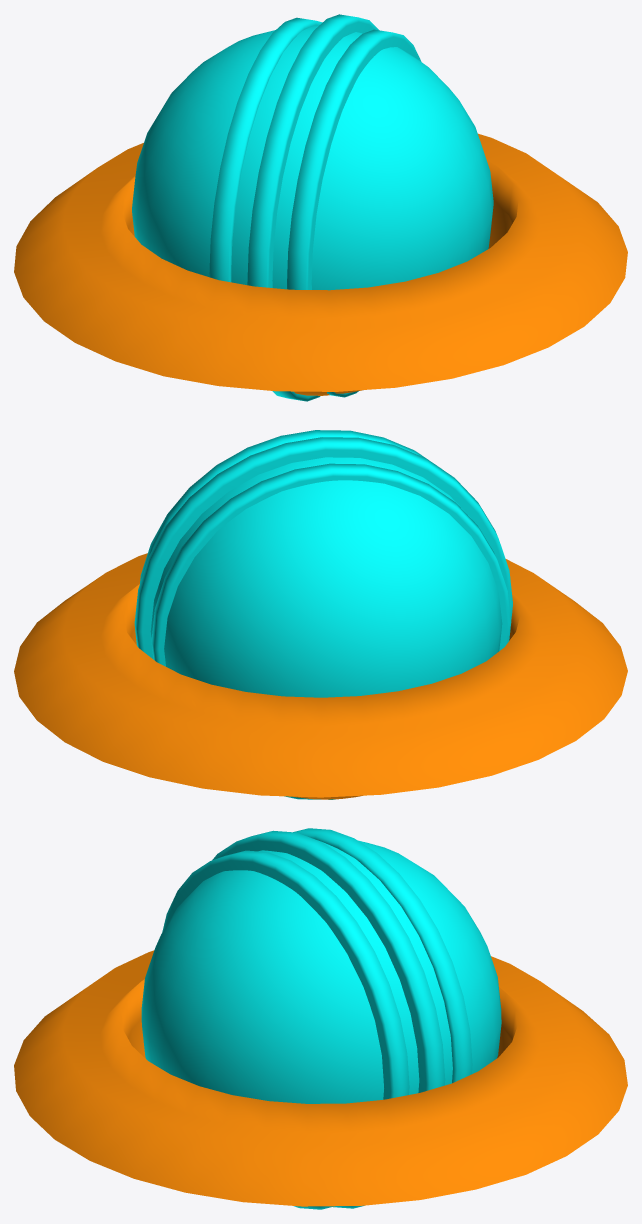
The model's file is Lago_Helado.fbx.
The picture shows the model from 3 angles, top to bottom: view 1: azimuth 30°, elevation 25°; view 2: azimuth 150°, elevation 25°; view 3: azimuth 270°, elevation 25°; orthographic projection.
Visible parts, largest first — view 1: Lago_Helado; view 2: Lago_Helado; view 3: Lago_Helado.
Part boxes in pixels (x1,y1,x2,y2): Lago_Helado: (14,14,627,401); Lago_Helado: (14,430,627,799); Lago_Helado: (14,828,627,1209).
Bounding box in the file's own units: 253 × 159 × 251.
